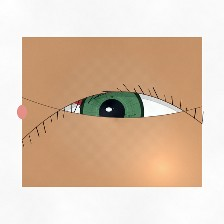hemorrhage_spot: (58, 67, 127, 122)
